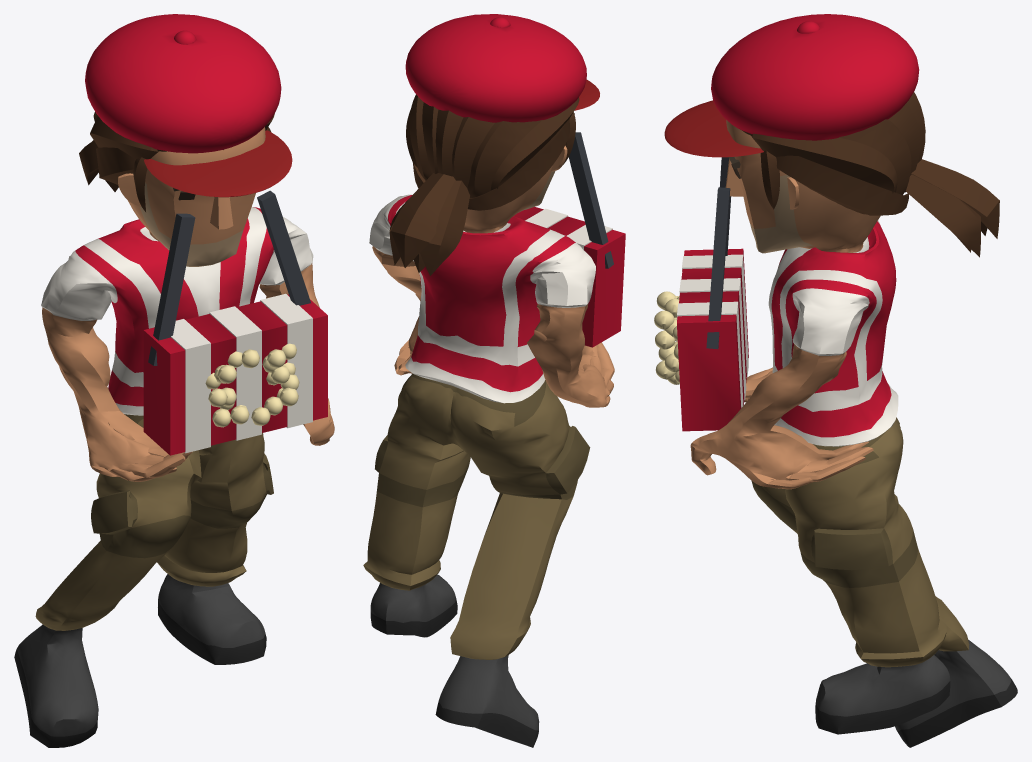
Rendered from av-vendedor-pipoca.glb.
3 renders of one model, left to right at view 1: azimuth 30°, elevation 25°; view 2: azimuth 150°, elevation 25°; view 3: azimuth 270°, elevation 25°, orthographic. The views are drawn at different scales.
Visible parts, largest first — view 1: Ad_bandeja_pipoca_1_0; view 2: Ad_bandeja_pipoca_1_0; view 3: Ad_bandeja_pipoca_1_0.
Part boxes in pixels (bbox=[...]): Ad_bandeja_pipoca_1_0: bbox=[14, 14, 334, 747]; Ad_bandeja_pipoca_1_0: bbox=[363, 14, 625, 747]; Ad_bandeja_pipoca_1_0: bbox=[654, 14, 1017, 747].
Bounding box in the file's own units: 0.5572 × 1.55 × 0.6782.
Materials: 1 (1 with a texture image).
